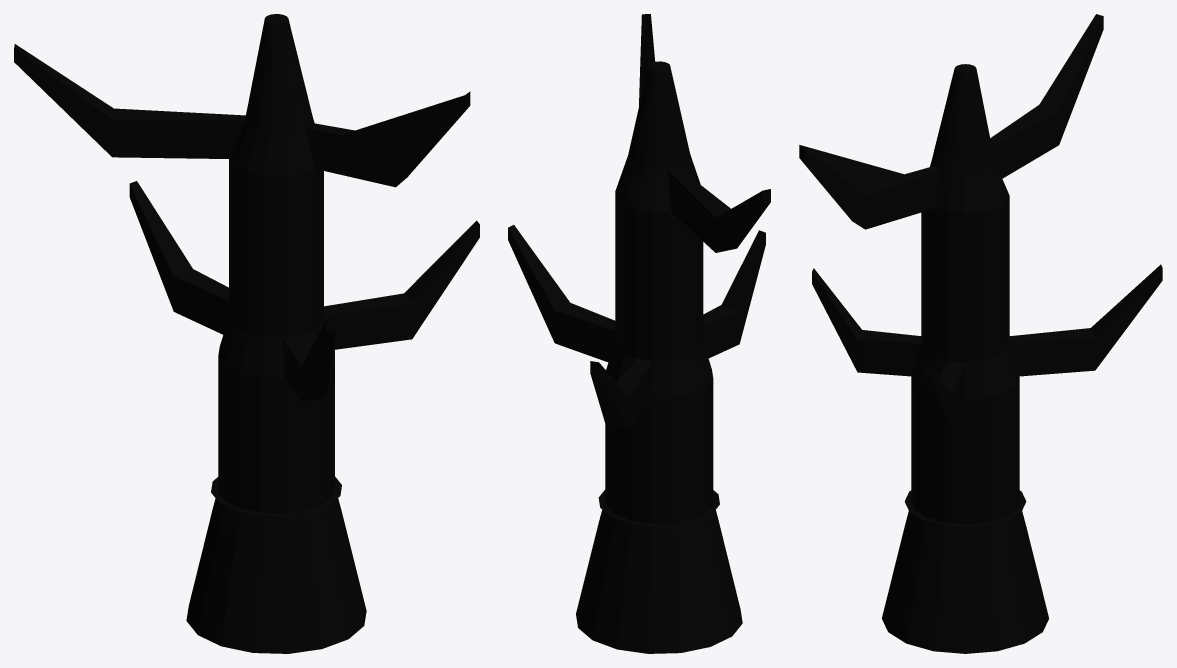
The model's file is BurntTreeModel.fbx.
The picture shows the model from 3 angles, left to right: view 1: azimuth 30°, elevation 25°; view 2: azimuth 150°, elevation 25°; view 3: azimuth 270°, elevation 25°; orthographic projection. The views are drawn at different scales.
Visible parts, largest first — view 1: Cylinder; view 2: Cylinder; view 3: Cylinder.
Boxes of the visible parts, box(x1,y1,x2,y2) form: Cylinder: box(14, 14, 479, 653); Cylinder: box(508, 14, 770, 653); Cylinder: box(799, 14, 1162, 653).
Bounding box in the file's own units: 3.26 × 4.98 × 2.98.
